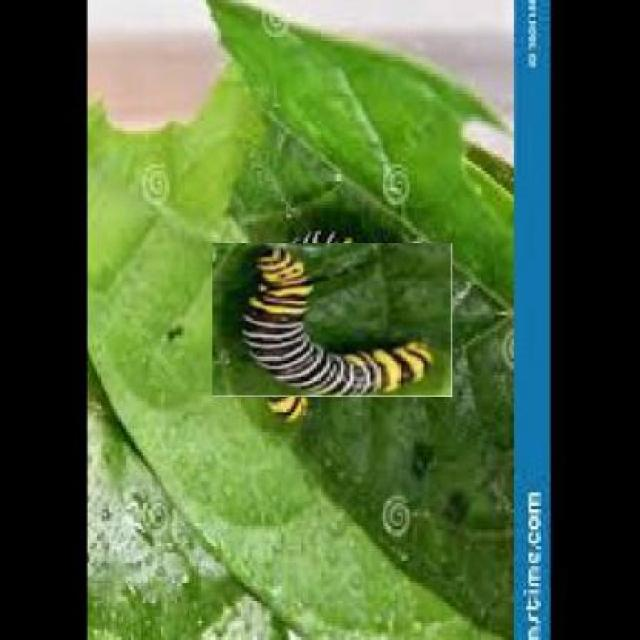Plaga: (233, 221, 432, 419)
